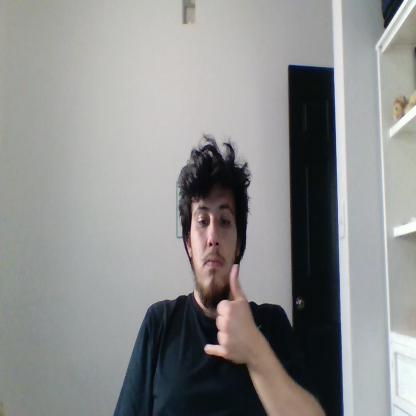Y: (204, 262, 252, 362)
